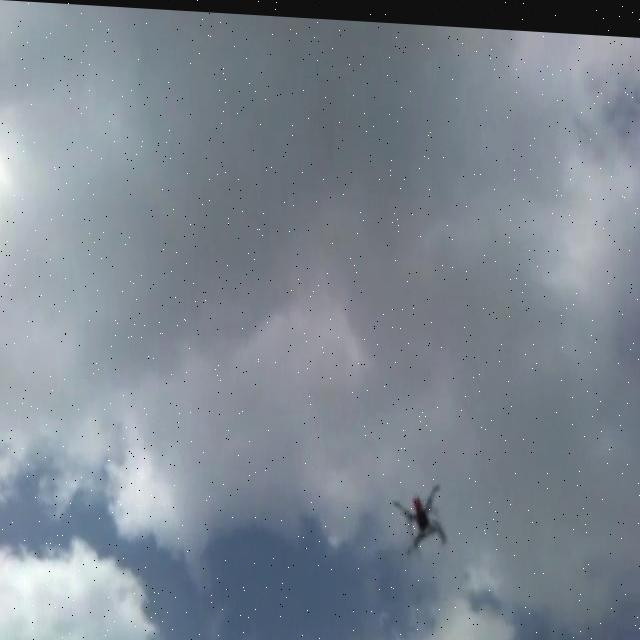drone: (390, 466, 450, 555)
